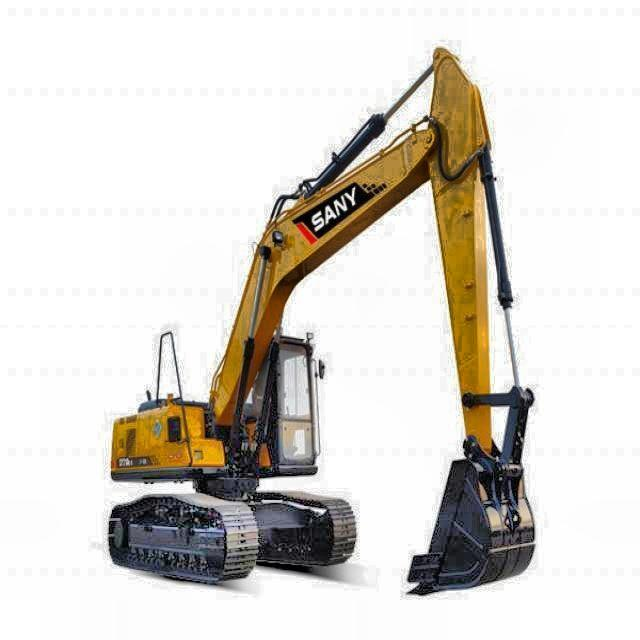excavator: (103, 47, 542, 598)
